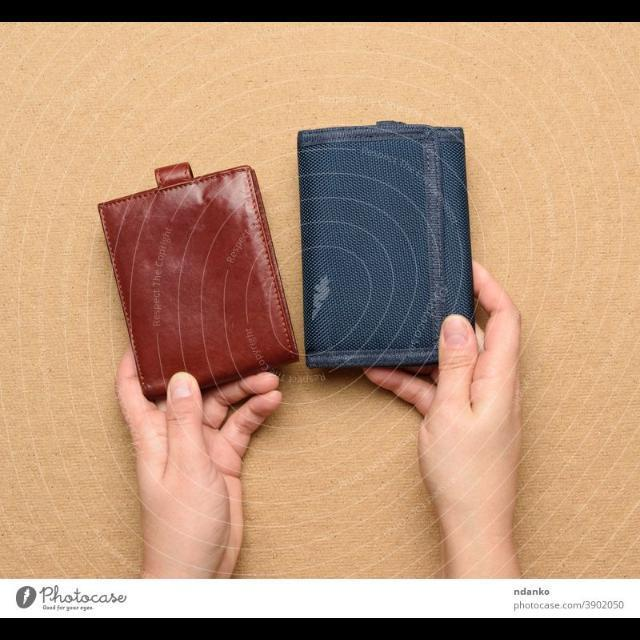wallet: (100, 155, 294, 443), (294, 114, 472, 370)
